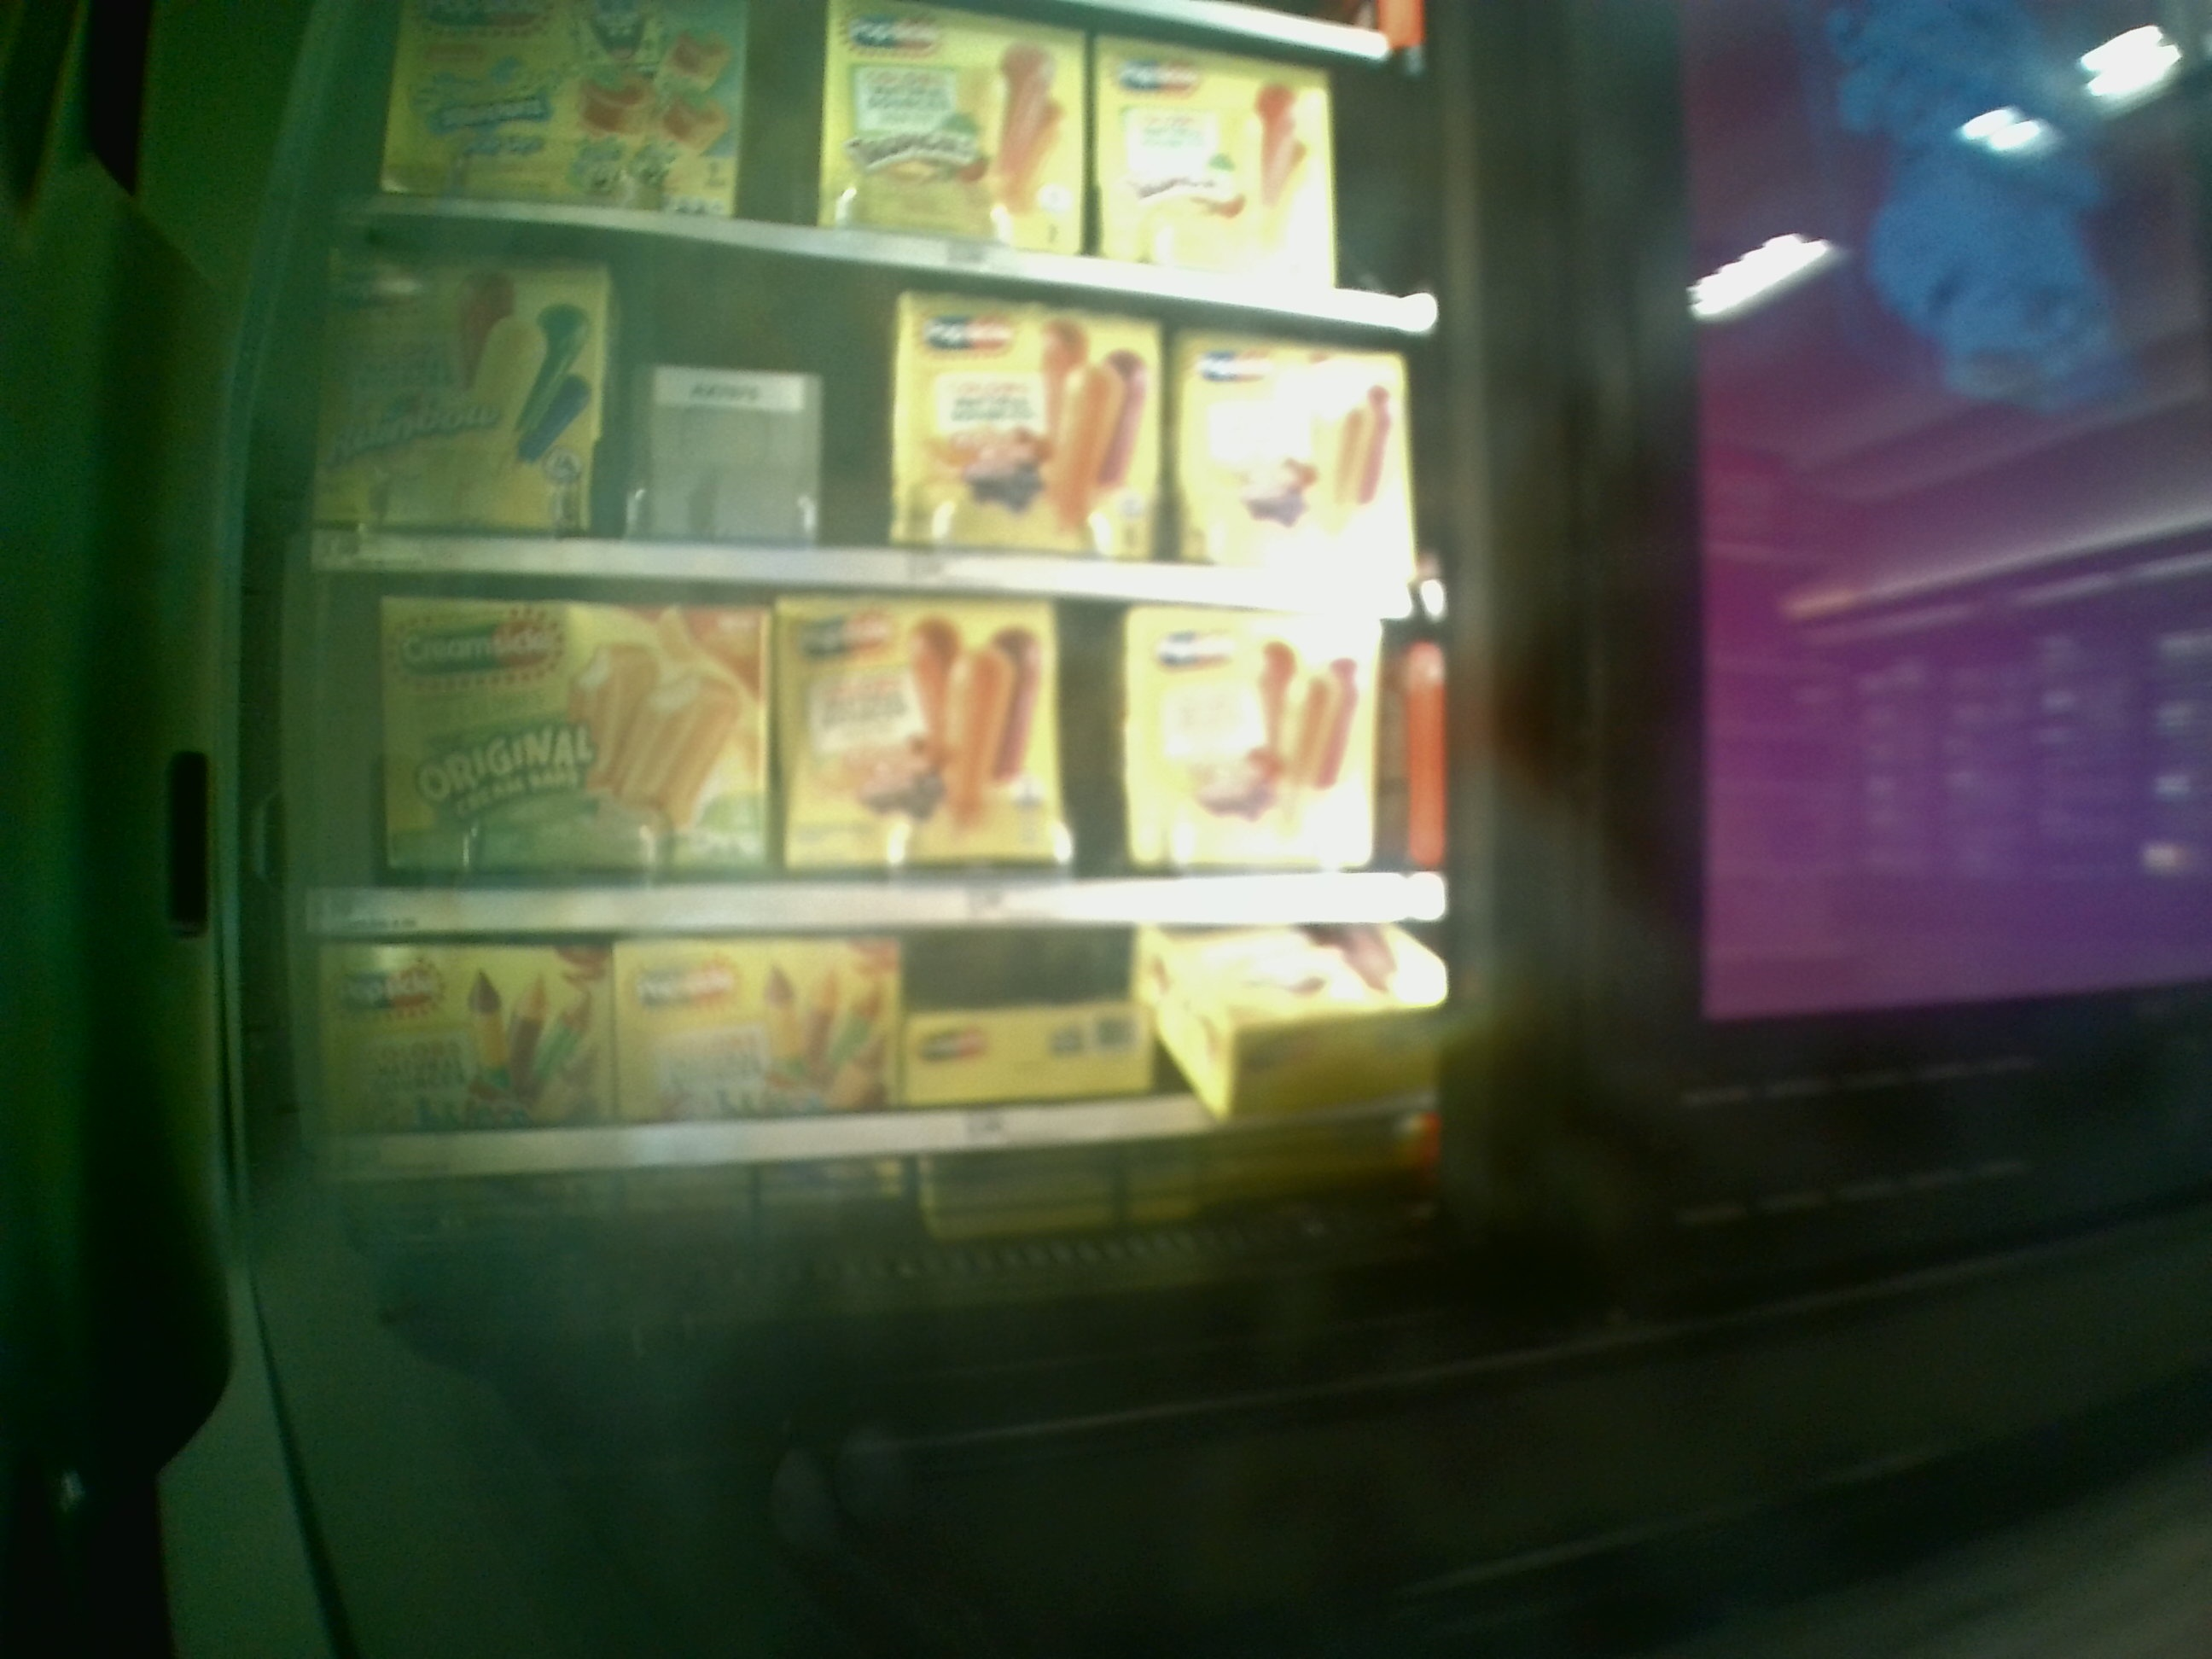frozen-food-shelf: (289, 579, 1456, 929)
